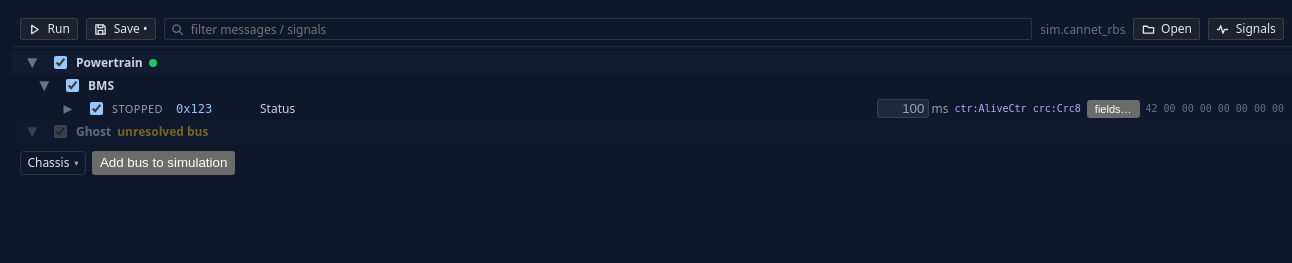
RbsPanel (thin view over the host RBS model) › opens the signal context menu on right-click and dismisses on Escape
This screenshot has width=1292, height=263.
Click the button named "toggle 0x123" at (68, 108), box [56,99,80,117]
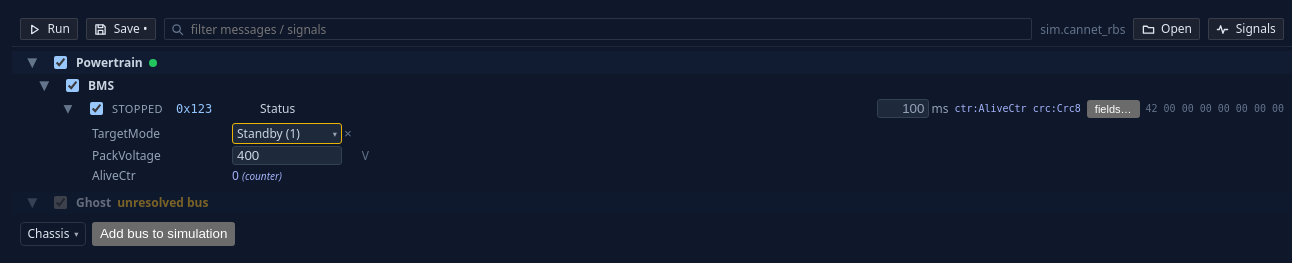
Right-click the text "AliveCtr" at (114, 176), box [92,166,232,185]
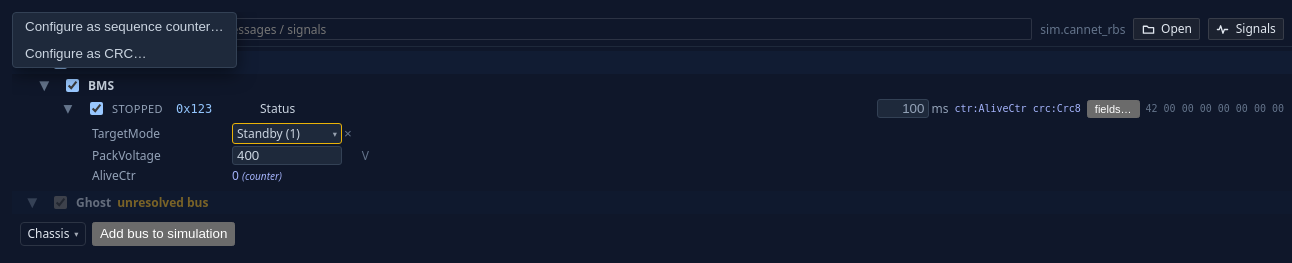
Expected: the button "Configure as sequence counter…" is shown, [13,13,236,40]
Press Escape
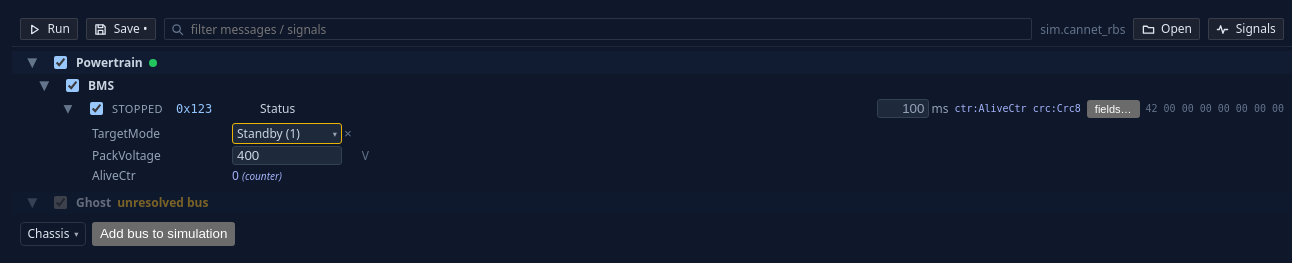
Expected: the button "Configure as sequence counter…" is gone
